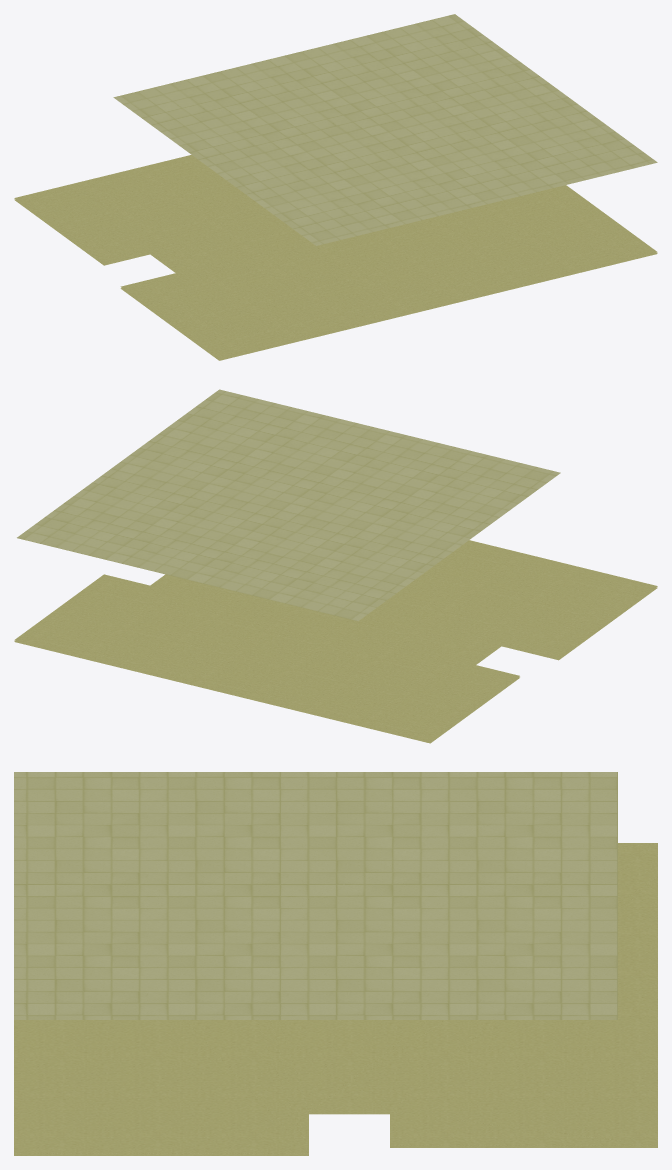
The model's file is SM_Backrooms_01_Water_00.fbx.
3 views of the same model, one above another, from view 1: azimuth 30°, elevation 25°; view 2: azimuth 150°, elevation 25°; view 3: azimuth 270°, elevation 25° (orthographic). The views are drawn at different scales.
Visible parts, largest first — view 1: SM_Backrooms_01_Water_00; view 2: SM_Backrooms_01_Water_00; view 3: SM_Backrooms_01_Water_00.
Part boxes in pixels (left/top/right/bottom): SM_Backrooms_01_Water_00: left=14, top=14, right=657, bottom=360; SM_Backrooms_01_Water_00: left=14, top=389, right=657, bottom=743; SM_Backrooms_01_Water_00: left=14, top=772, right=657, bottom=1155.
Size of the model in its own units: 7008 by 1394 by 5991.
